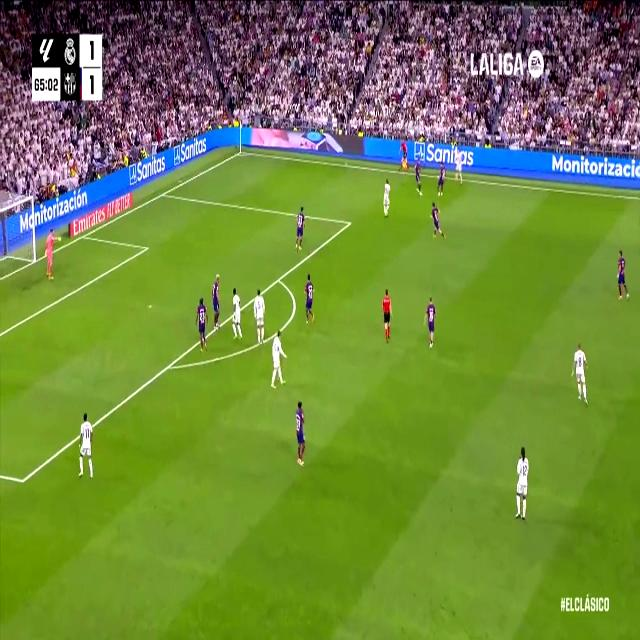bigarea_bottom_inner: (17, 467, 28, 493)
bigarea_top_inner: (346, 214, 352, 231)
bigarea_top_outter: (161, 188, 167, 199)
bottom_arc_area_intersection: (164, 357, 174, 375)
corner: (236, 146, 245, 158)
smallarea_top_inner: (143, 242, 149, 254)
top_arc_area_intersection: (276, 272, 282, 285)
